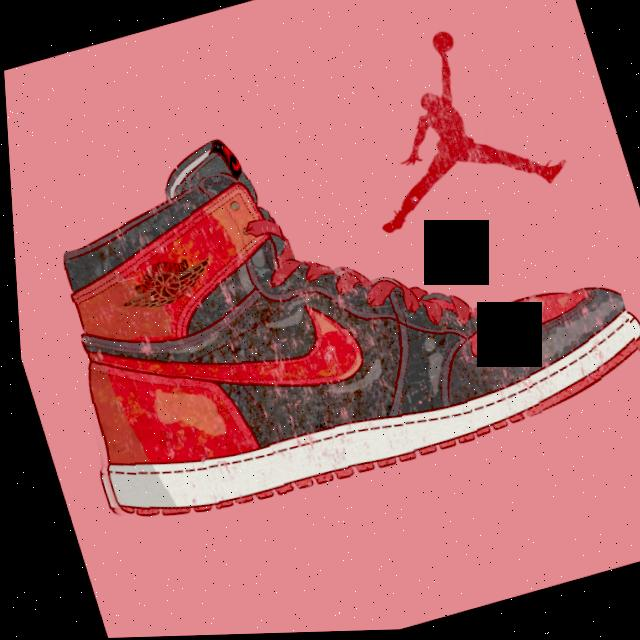shoe: (9, 79, 640, 595)
